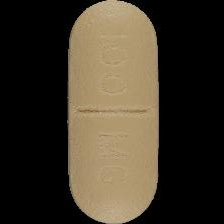67544-080: (0, 0, 224, 224)
